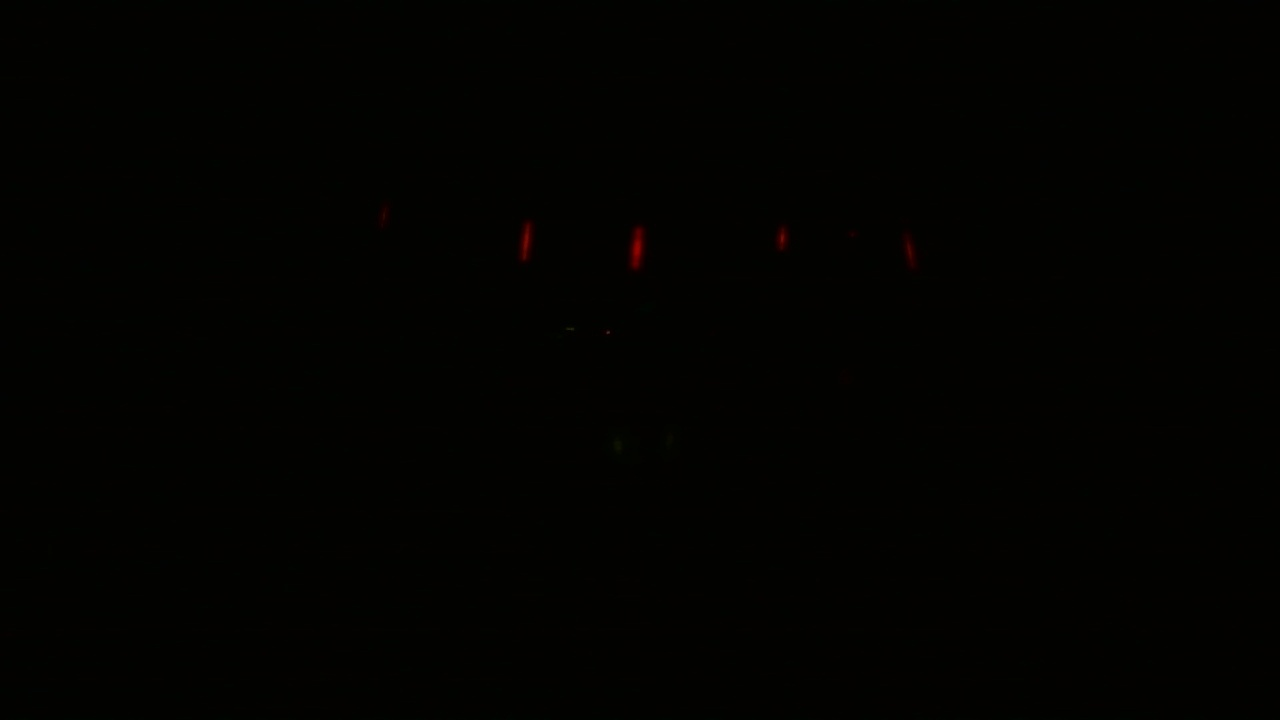pair1: (517, 219, 646, 277)
